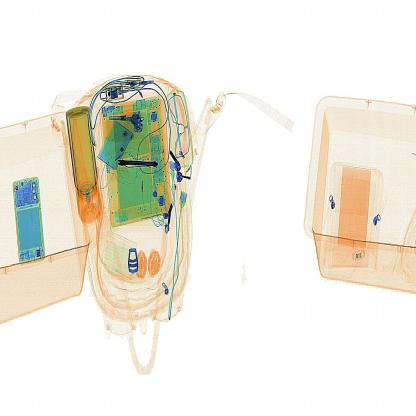knife: (110, 150, 166, 182)
